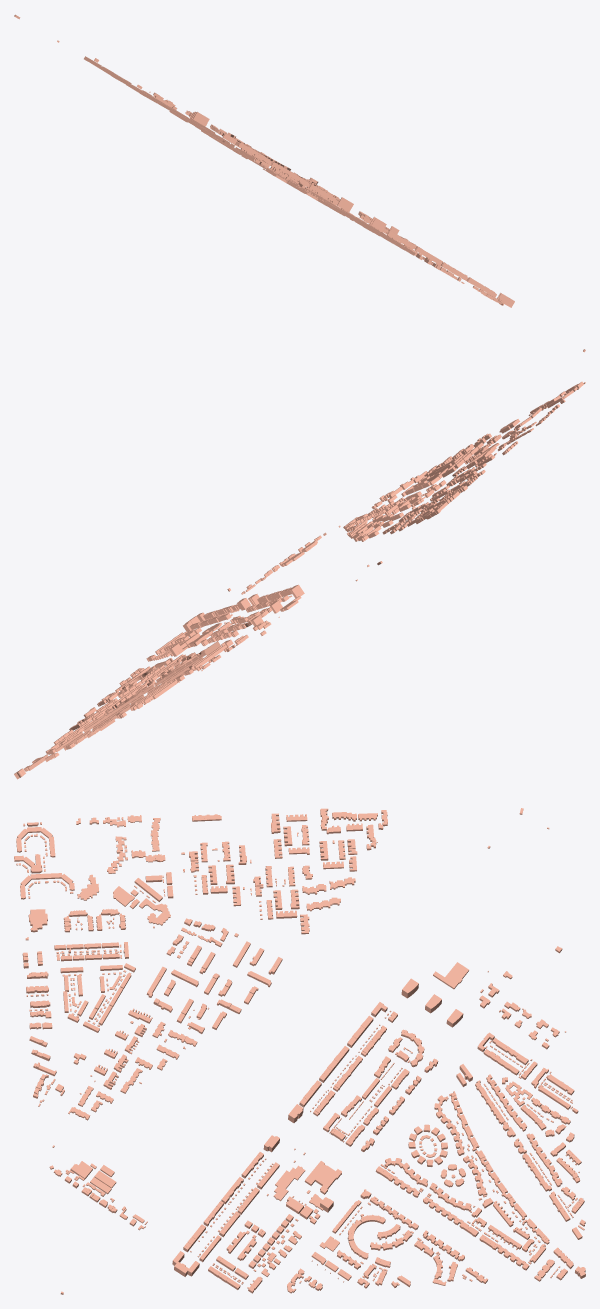
The picture shows the model from 3 angles, top to bottom: view 1: azimuth 30°, elevation 25°; view 2: azimuth 150°, elevation 25°; view 3: azimuth 270°, elevation 25°; orthographic projection. The views are drawn at different scales.
Size of the model in its own units: 1014 by 748 by 1274.
